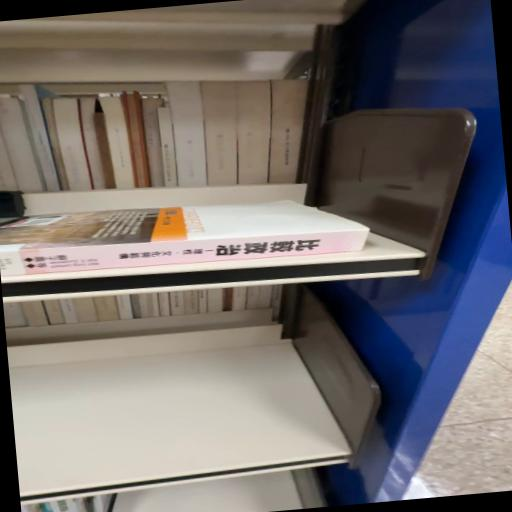flat: (1, 202, 370, 278)
